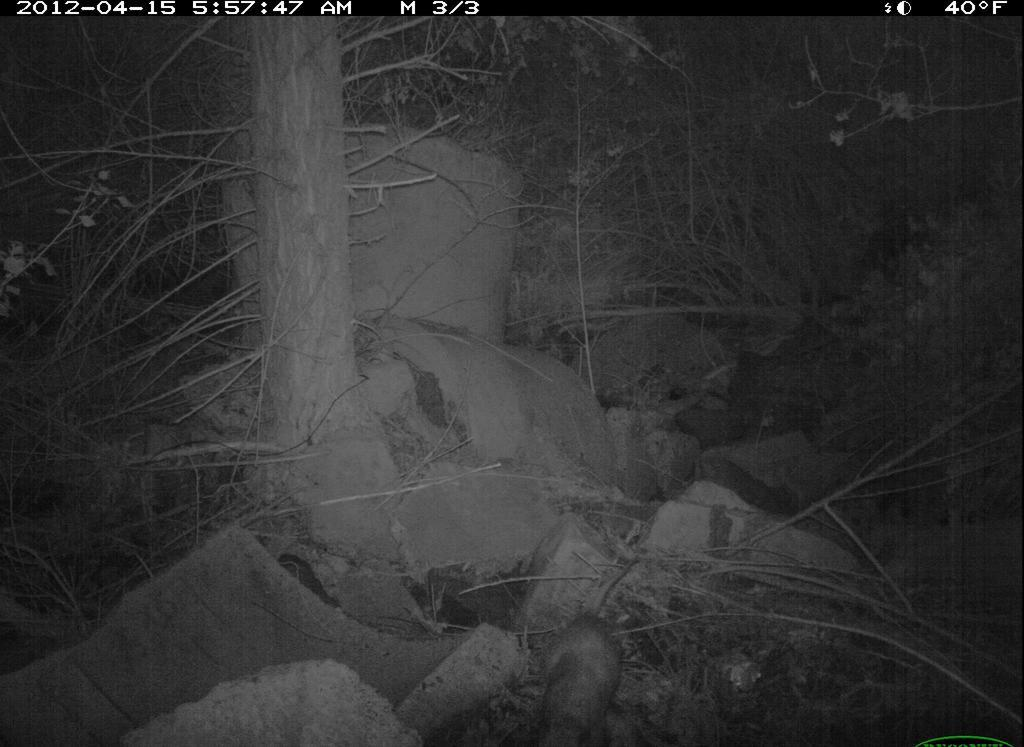opossum: (530, 607, 638, 740)
